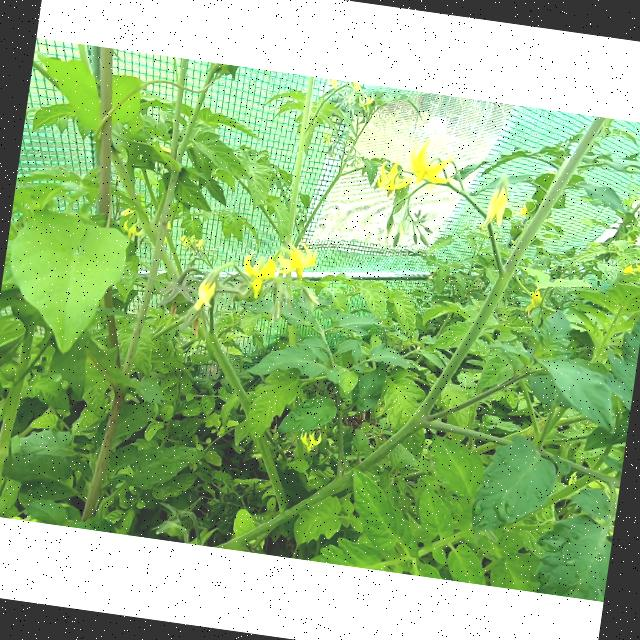Flowers: (404, 136, 460, 190), (237, 252, 284, 304), (280, 242, 322, 287), (373, 158, 415, 195), (191, 267, 223, 315), (484, 172, 510, 228), (298, 428, 322, 454), (121, 218, 147, 240), (524, 289, 544, 316), (355, 93, 376, 115), (119, 206, 138, 220), (178, 234, 195, 248), (516, 204, 528, 220), (350, 82, 363, 94), (622, 264, 634, 276), (633, 263, 640, 275), (329, 80, 338, 89), (197, 238, 204, 249)
